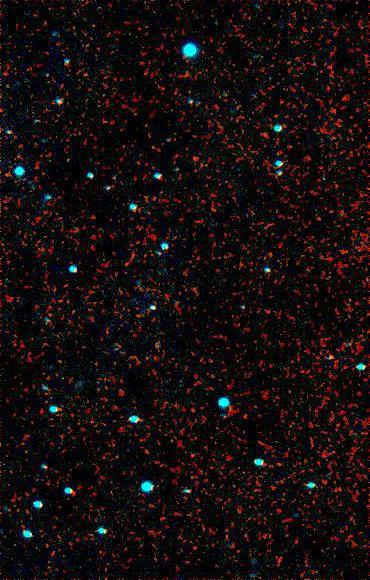star: (54, 147, 84, 177)
